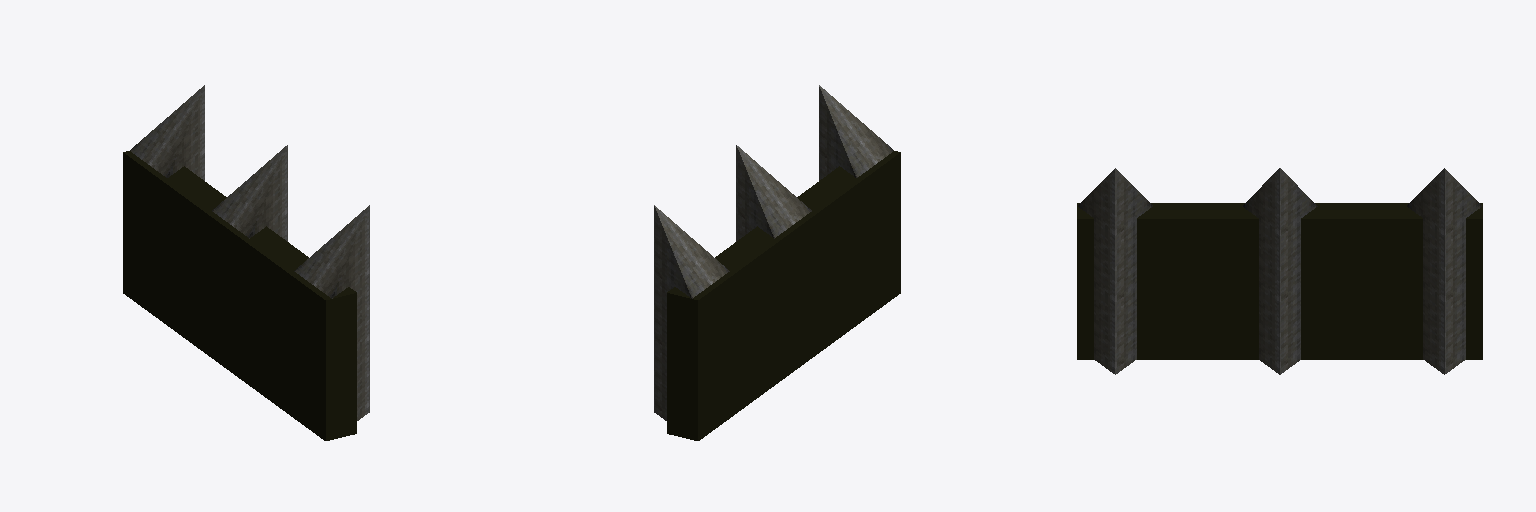
3 renders of one model, left to right at view 1: azimuth 30°, elevation 25°; view 2: azimuth 150°, elevation 25°; view 3: azimuth 270°, elevation 25°, orthographic.
Visible parts, largest first — view 1: wall1; view 2: wall1; view 3: wall1.
Boxes of the visible parts, box(x1,y1,x2,y2) form: wall1: box(123, 85, 369, 440); wall1: box(654, 85, 900, 440); wall1: box(1077, 168, 1482, 374).
Size of the model in its own units: 0.1 by 0.3128 by 0.5539.
Materials: 2 (1 with a texture image).